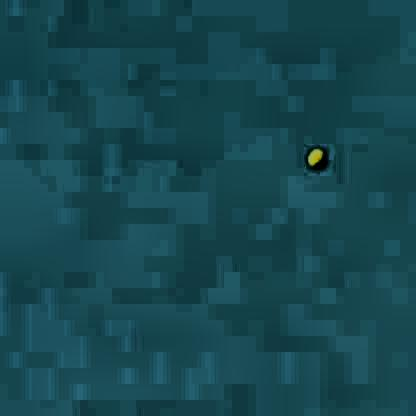golfball: (302, 147, 326, 169)
